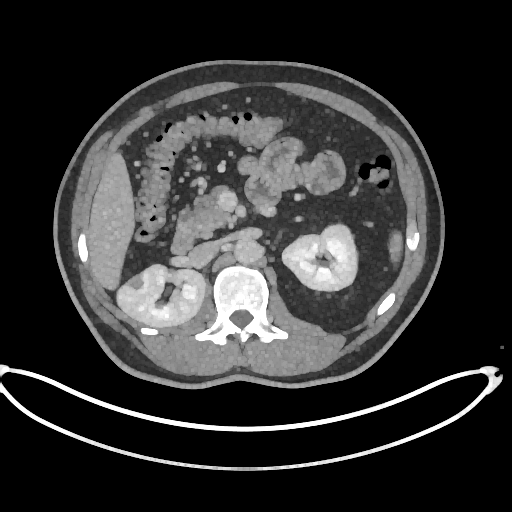Lesion: (126, 275, 146, 289)
